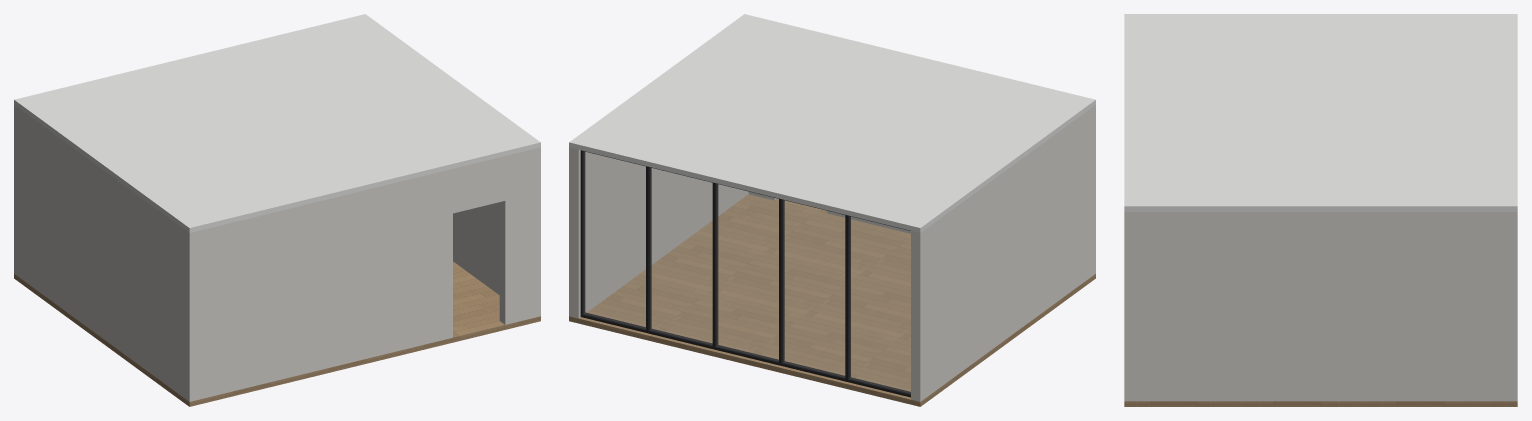
File: office_shell.glb
3 renders of one model, left to right at view 1: azimuth 30°, elevation 25°; view 2: azimuth 150°, elevation 25°; view 3: azimuth 270°, elevation 25°, orthographic. The views are drawn at different scales.
Visible parts, largest first — view 1: Office_Ceiling, Office_Wall_S_A, Office_Wall_W, Office_Floor, Office_Wall_S_B, Office_Wall_E, Office_Wall_S_Header; view 2: Office_Ceiling, Office_Glass, Office_Floor, Office_Wall_W, Office_Wall_E, Office_Window_Sill, Office_Mullion_3, Office_Mullion_1, Office_Mullion_2, Office_Mullion_4, Office_Mullion_5; view 3: Office_Ceiling, Office_Wall_E, Office_Floor.
Part boxes in pixels (x1=…): Office_Ceiling: x1=14, y1=14, x2=540, y2=232; Office_Wall_S_A: x1=199, y1=169, x2=452, y2=399; Office_Wall_W: x1=14, y1=105, x2=198, y2=401; Office_Floor: x1=14, y1=261, x2=540, y2=406; Office_Wall_S_B: x1=499, y1=150, x2=531, y2=324; Office_Wall_E: x1=453, y1=147, x2=540, y2=318; Office_Wall_S_Header: x1=453, y1=156, x2=505, y2=213; Office_Ceiling: x1=569, y1=14, x2=1095, y2=232; Office_Glass: x1=584, y1=152, x2=910, y2=392; Office_Floor: x1=569, y1=194, x2=1095, y2=406; Office_Wall_W: x1=911, y1=105, x2=1095, y2=401; Office_Wall_E: x1=569, y1=147, x2=748, y2=318; Office_Window_Sill: x1=580, y1=312, x2=910, y2=397; Office_Mullion_3: x1=712, y1=183, x2=718, y2=346; Office_Mullion_1: x1=845, y1=215, x2=850, y2=379; Office_Mullion_2: x1=779, y1=199, x2=784, y2=363; Office_Mullion_4: x1=646, y1=166, x2=651, y2=330; Office_Mullion_5: x1=580, y1=150, x2=585, y2=314; Office_Ceiling: x1=1124, y1=14, x2=1517, y2=211; Office_Wall_E: x1=1124, y1=212, x2=1517, y2=401; Office_Floor: x1=1124, y1=401, x2=1517, y2=406.
Size of the model in its own units: 7.4 by 3.6 by 6.4.
6 materials, 1 textured.
